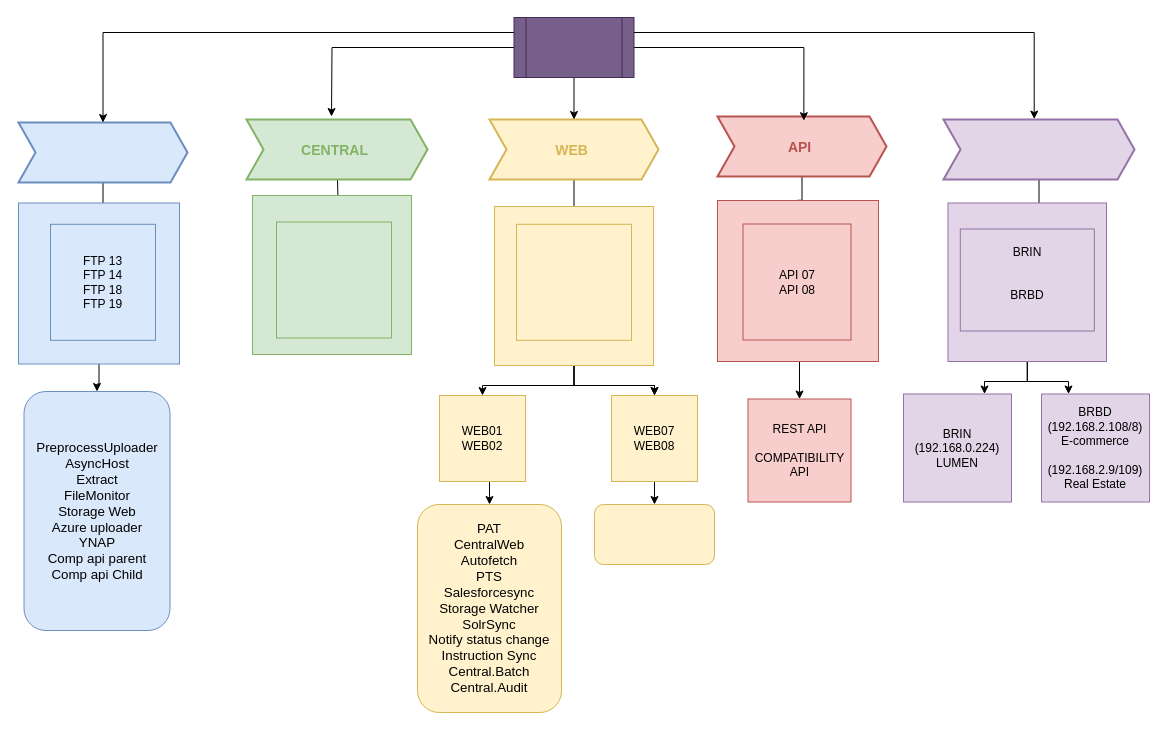
Image size: 1167x730. Some labels were removed from this diagram. Each missing label, with the centre of its shape:
"DB04A(Primary) DB04B(Secondary)" goes at point 334,279.
"FTP" goes at point 102,152.
"PROCESSOR" goes at point 1038,149.
"SERVERS" goes at point 573,47.
"STREAM" goes at point 654,534.
"WEB01 WEB02 WEB07 WEB08" goes at point 574,281.
